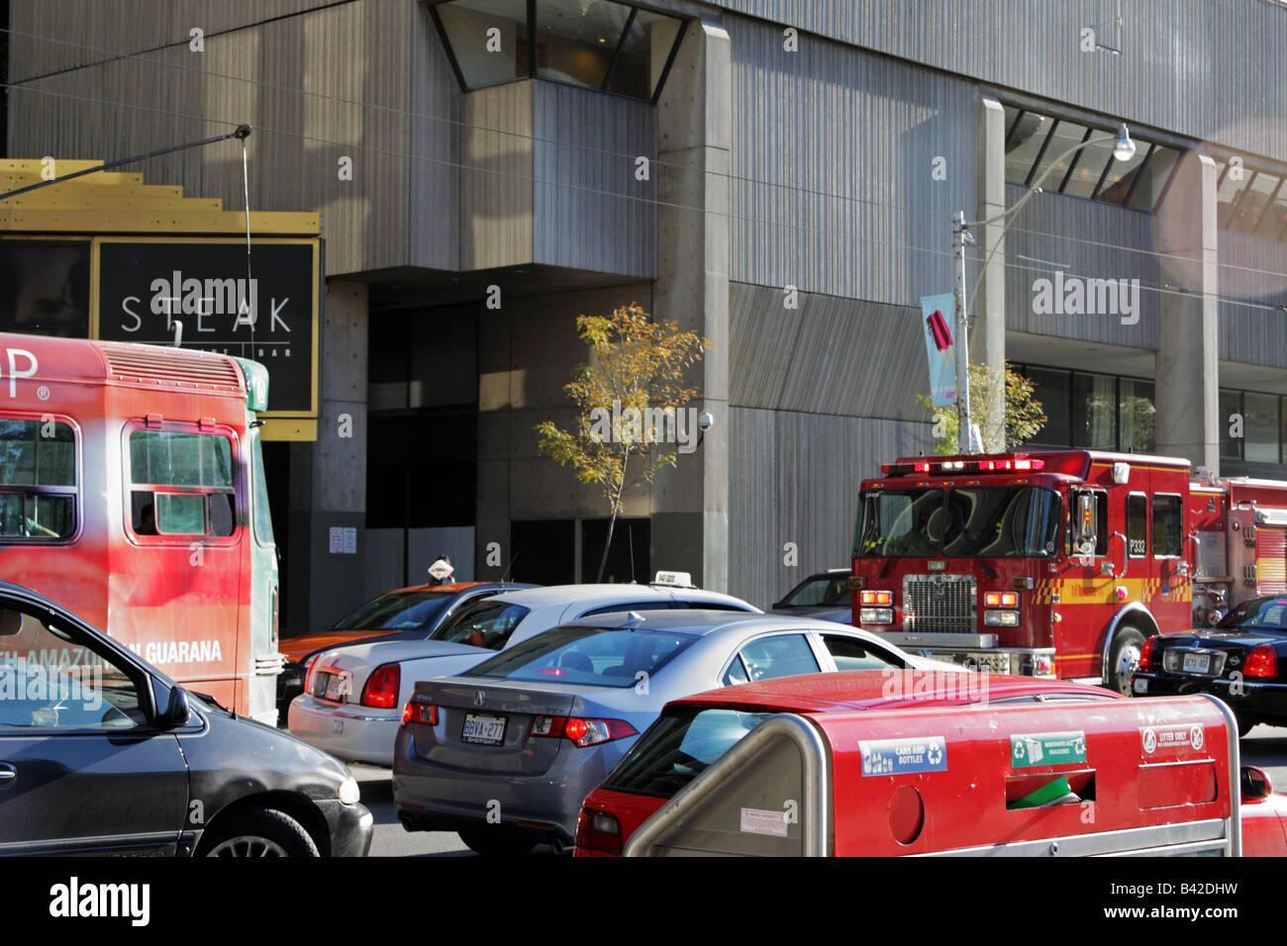Fire-engine: (849, 450, 1287, 690), (874, 447, 1054, 484)
